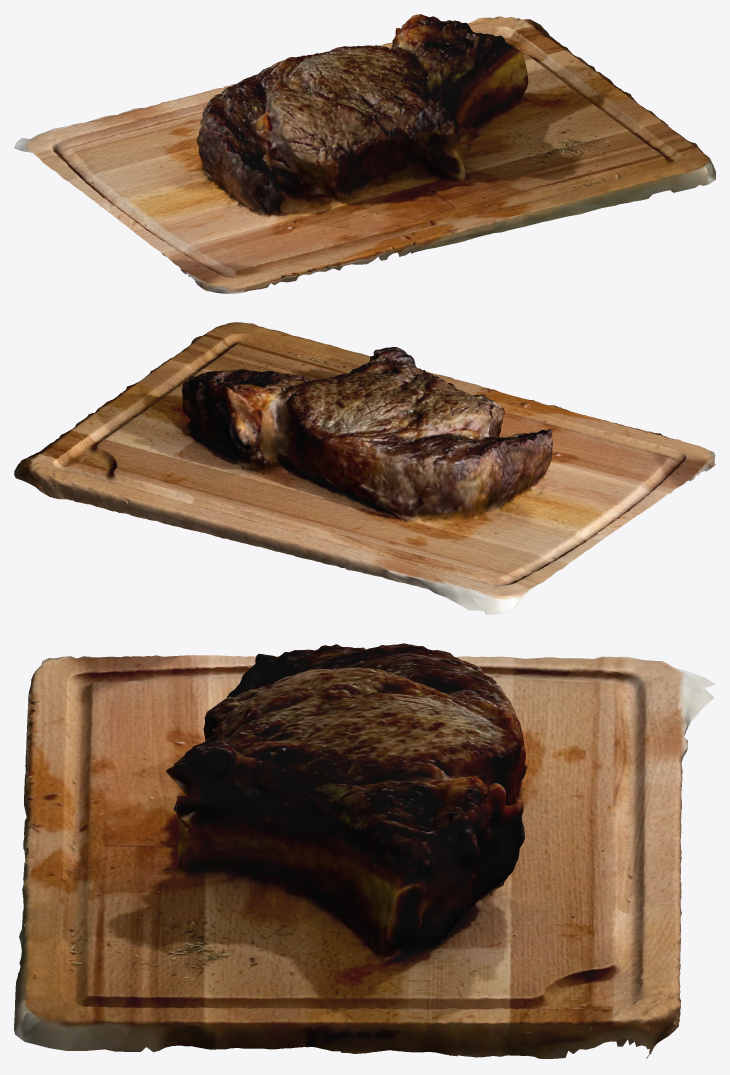
File: food6.glb
3 views of the same model, one above another, from view 1: azimuth 30°, elevation 25°; view 2: azimuth 150°, elevation 25°; view 3: azimuth 270°, elevation 25° (orthographic). The views are drawn at different scales.
Parts seen in each view (by area): view 1: 5; view 2: 5; view 3: 5.
Boxes of the visible parts, <box> form: 5: <box>14,14,715,293</box>; 5: <box>14,322,715,614</box>; 5: <box>14,643,715,1058</box>.
Bounding box in the file's own units: 0.1603 × 0.0284 × 0.1207.
Materials: 1 (1 with a texture image).
